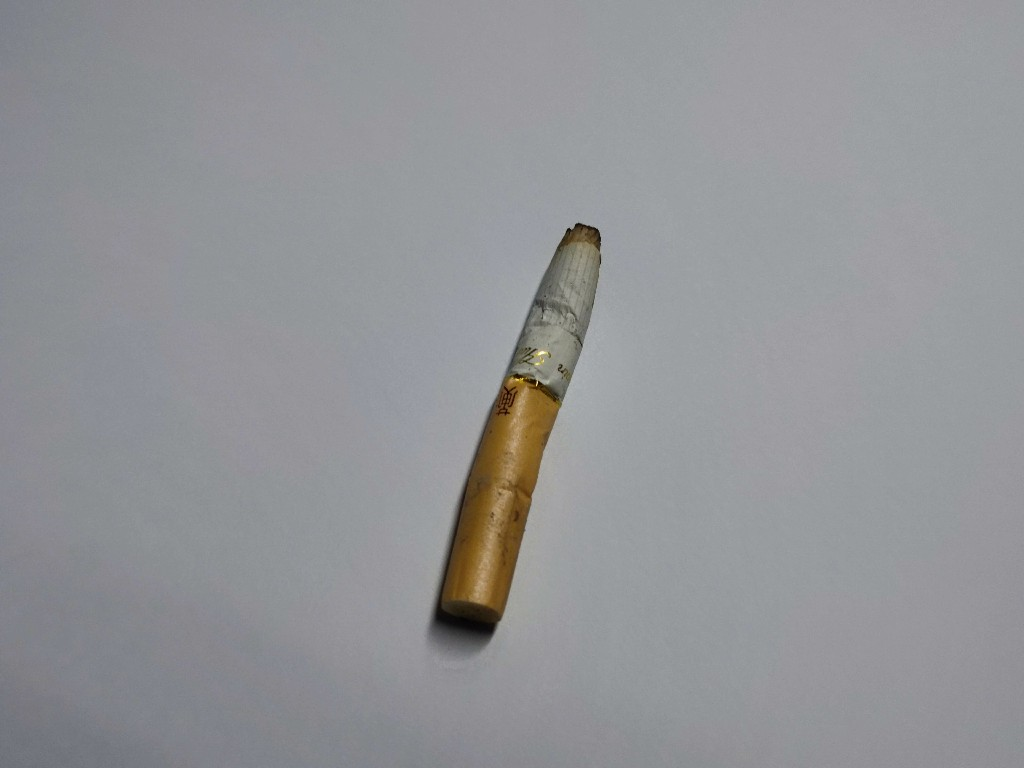cigarette: (431, 218, 611, 632)
